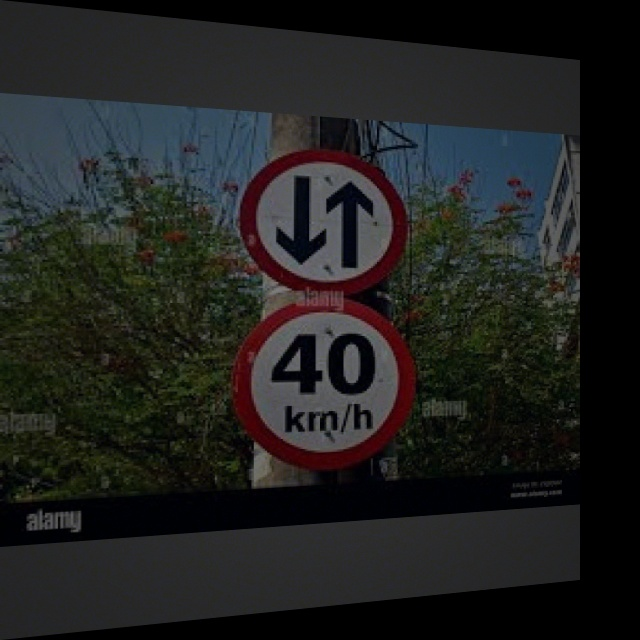Mandatory_Two_Way_Traffic: (243, 148, 405, 291)
